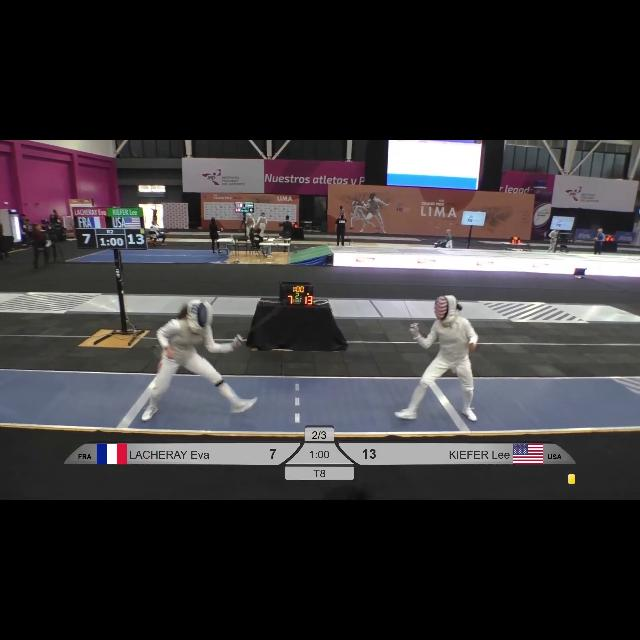blade: (237, 294, 301, 342), (396, 283, 420, 331)
